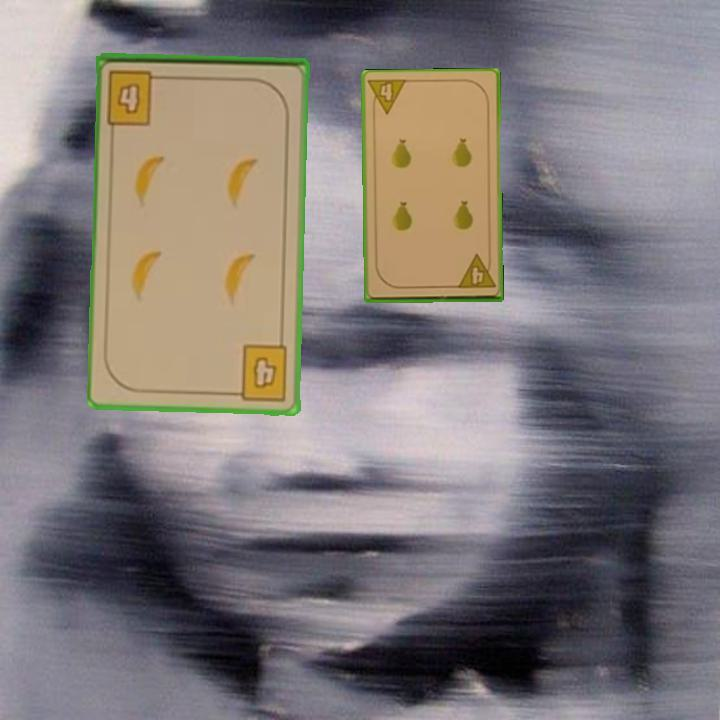4b: (103, 66, 169, 128), (227, 341, 291, 403)
4p: (365, 76, 409, 118), (453, 252, 498, 291)
